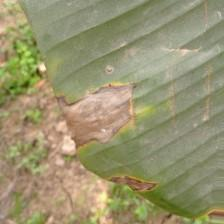cordana: (22, 0, 224, 224)
